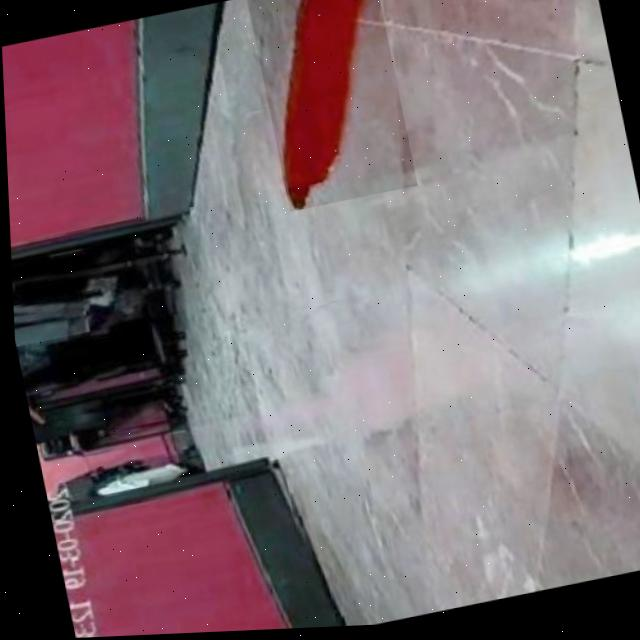spillage: (281, 0, 364, 212)
